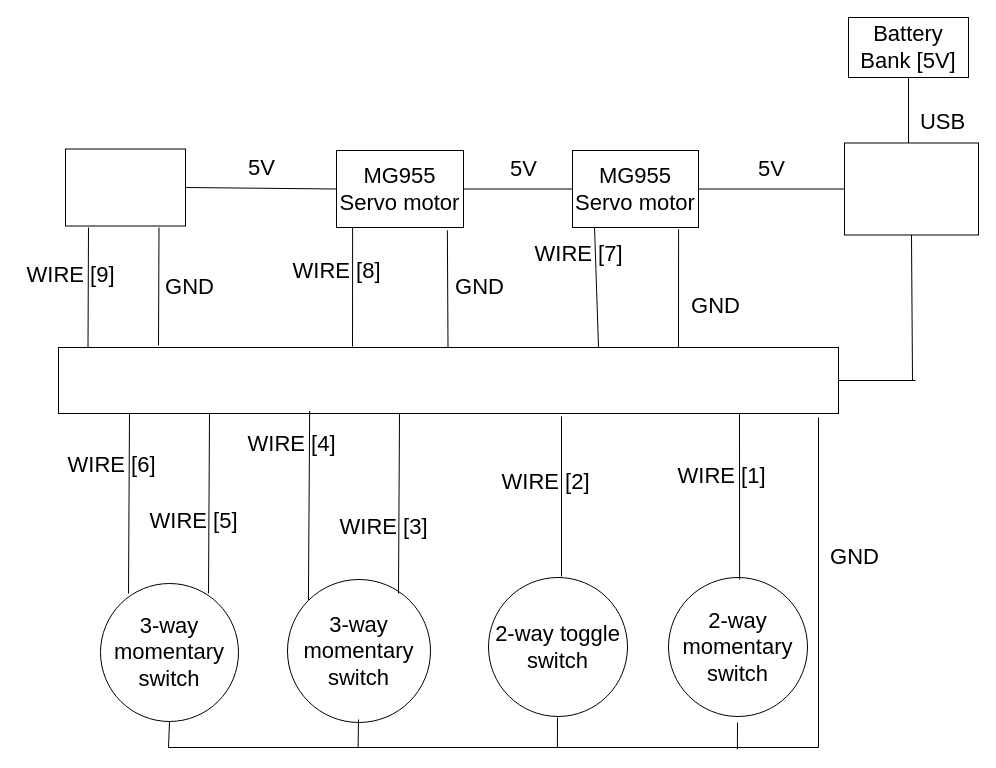
This 996x768 diagram has some shape labels left out. Here are the shapes that lost their labels. From the top down, the box of each, then its label:
(64, 148, 186, 226): WS2812 LEDs
(844, 142, 978, 235): Power Distribution Board
(58, 346, 838, 414): Raspberry PI & GPIO headers
